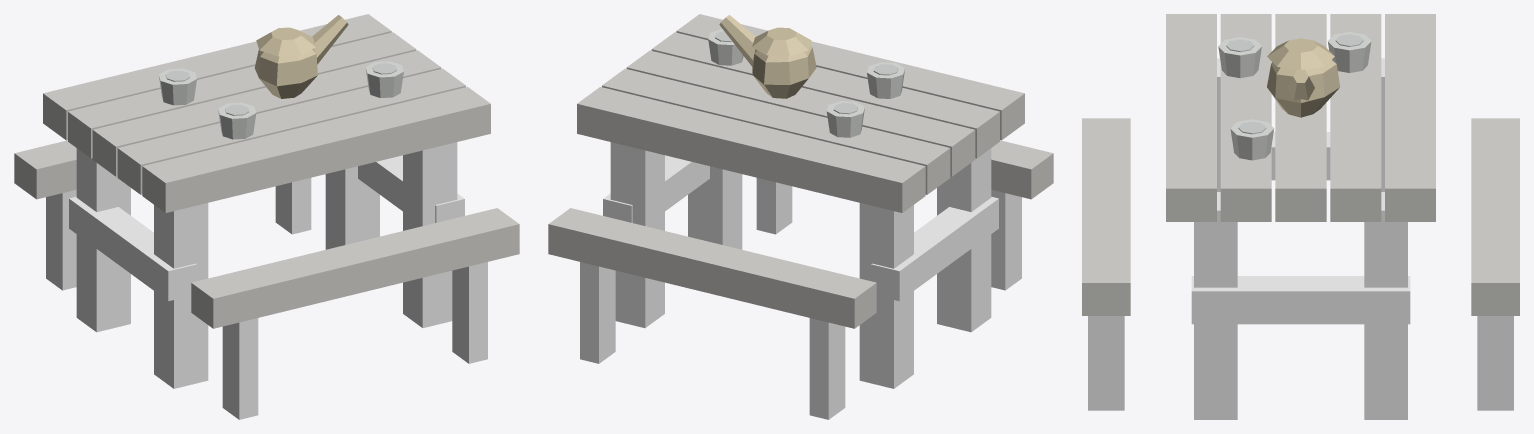
File: table.glb
3 views of the same model, side by side, from view 1: azimuth 30°, elevation 25°; view 2: azimuth 150°, elevation 25°; view 3: azimuth 270°, elevation 25° (orthographic). The views are drawn at different scales.
Parts seen in each view (by area): view 1: table; view 2: table; view 3: table.
Boxes of the visible parts, x1,y1,x2,y2 form: table: (14,14,519,419); table: (548,14,1053,419); table: (1082,14,1519,419).
Bounding box in the file's own units: 2.12 × 1.78 × 2.25.
